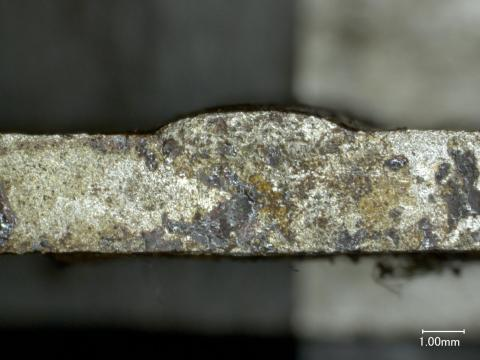test: (156, 110, 354, 132)
